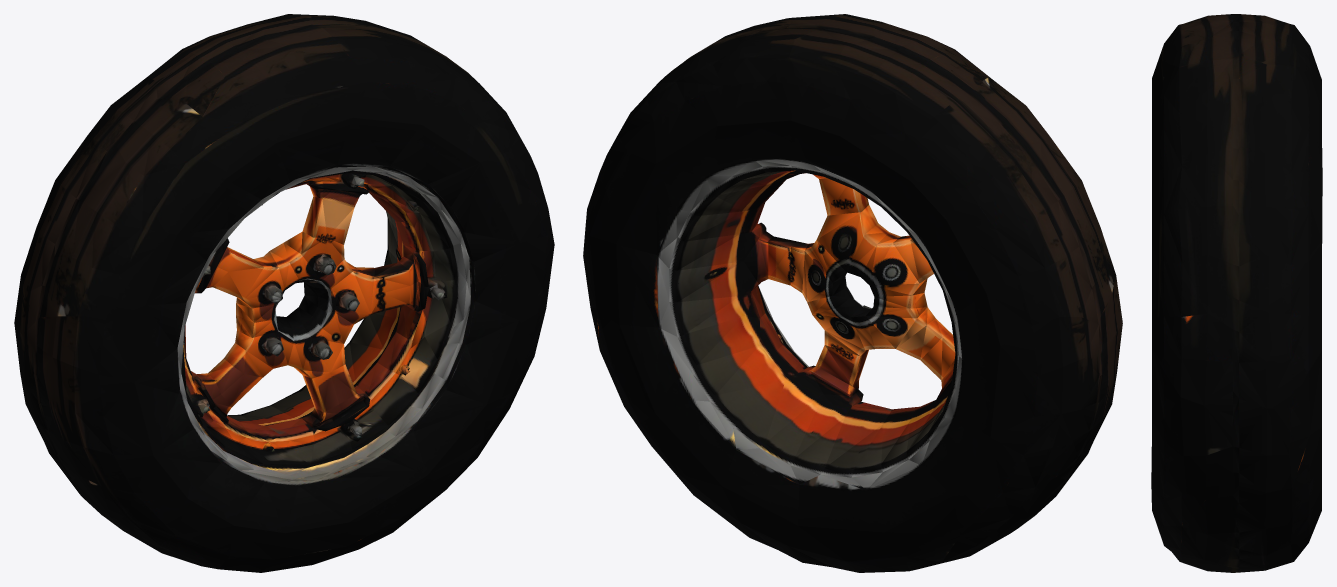
The model's file is wheel_mag.glb.
3 views of the same model, side by side, from view 1: azimuth 30°, elevation 25°; view 2: azimuth 150°, elevation 25°; view 3: azimuth 270°, elevation 25° (orthographic). The views are drawn at different scales.
Parts seen in each view (by area): view 1: tripo_node_7b87958b-77d8-495a-a54d-e8a15131fba6; view 2: tripo_node_7b87958b-77d8-495a-a54d-e8a15131fba6; view 3: tripo_node_7b87958b-77d8-495a-a54d-e8a15131fba6.
Part boxes in pixels (x1,y1,x2,y2): tripo_node_7b87958b-77d8-495a-a54d-e8a15131fba6: [14, 14, 554, 572]; tripo_node_7b87958b-77d8-495a-a54d-e8a15131fba6: [583, 14, 1122, 572]; tripo_node_7b87958b-77d8-495a-a54d-e8a15131fba6: [1151, 14, 1322, 572].
Bounding box in the file's own units: 0.9974 × 0.9974 × 0.3051.
1 material, 1 textured.
